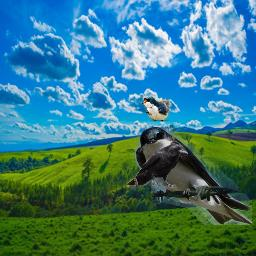Crow: (124, 143, 188, 191)
Swallow: (135, 127, 252, 225), (141, 95, 170, 122)
